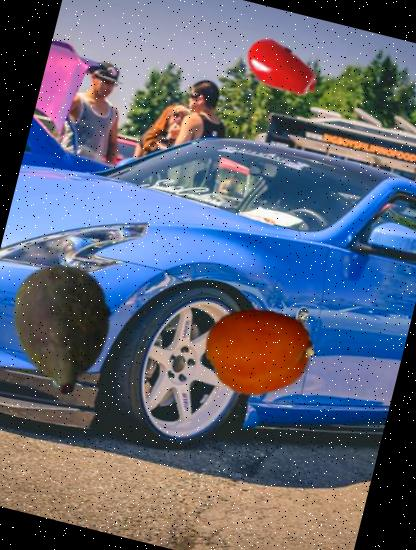Apricot: (195, 287, 323, 414)
Beetroot: (0, 247, 144, 408)
Tomato: (234, 21, 330, 118)
